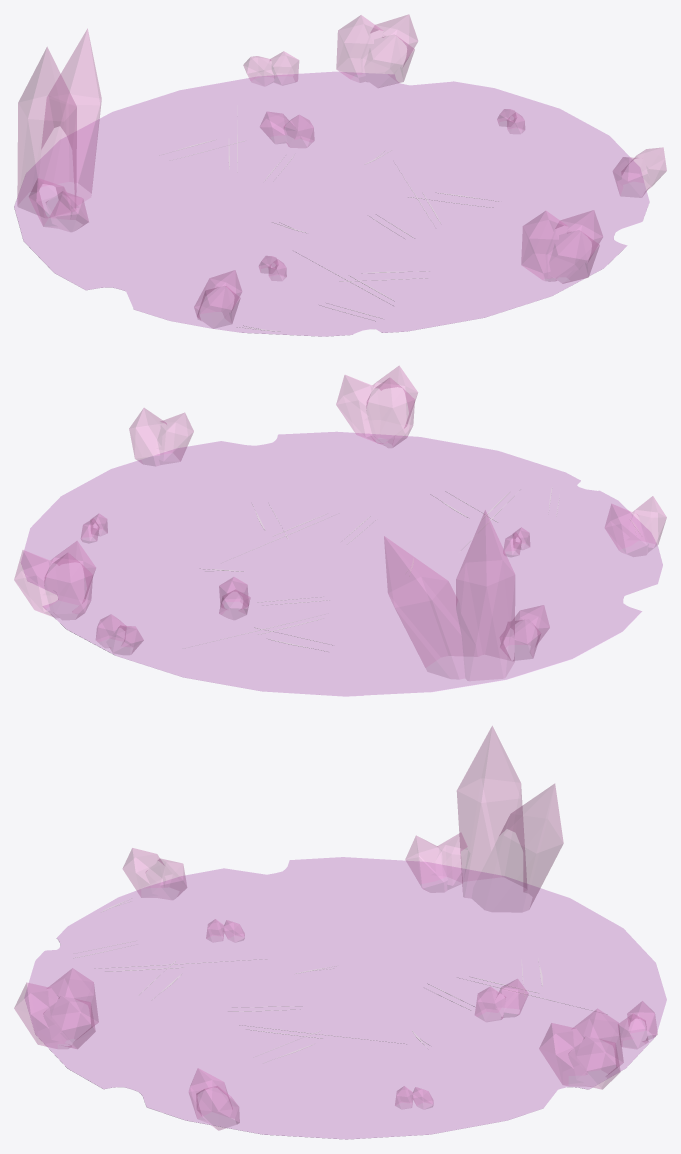
File: CrystalLevel.fbx
3 renders of one model, top to bottom at view 1: azimuth 30°, elevation 25°; view 2: azimuth 150°, elevation 25°; view 3: azimuth 270°, elevation 25°, orthographic. The views are drawn at different scales.
Parts seen in each view (by area): view 1: obj_0.001, obj_0.005, obj_0.002; view 2: obj_0.001, obj_0.005, obj_0.002; view 3: obj_0.001, obj_0.005, obj_0.002.
Part boxes in pixels (x1,y1,x2,y2): obj_0.001: (14, 71, 649, 336); obj_0.005: (17, 14, 666, 328); obj_0.002: (159, 105, 499, 331); obj_0.001: (21, 431, 662, 696); obj_0.005: (14, 366, 666, 680); obj_0.002: (182, 487, 642, 651); obj_0.001: (24, 857, 666, 1139); obj_0.005: (14, 726, 657, 1130); obj_0.002: (73, 898, 607, 1063).
Size of the model in its own units: 65897 by 18000 by 64387.
